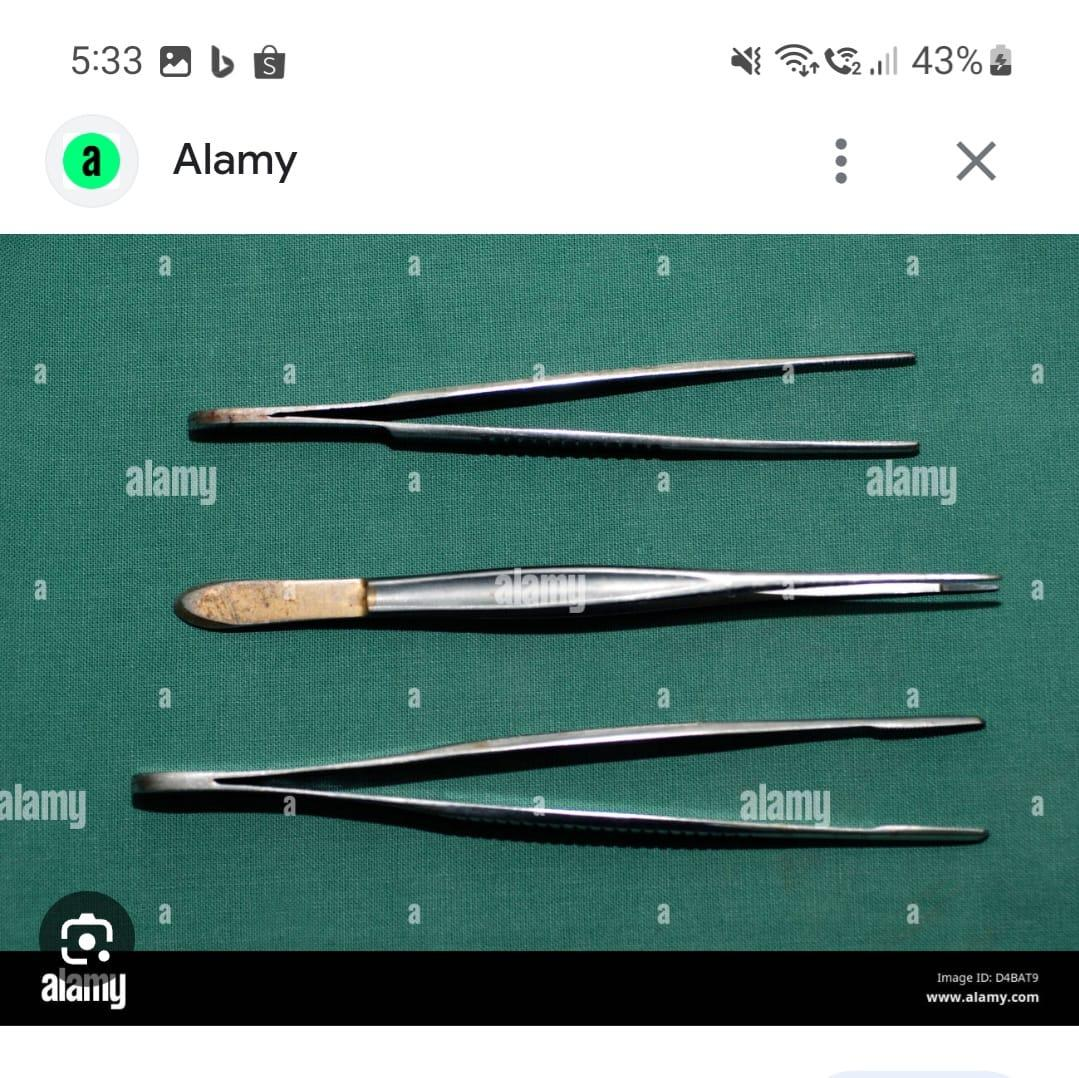Dissecting Forceps Plain: (117, 703, 1007, 858), (185, 338, 930, 488), (168, 540, 1007, 650)
